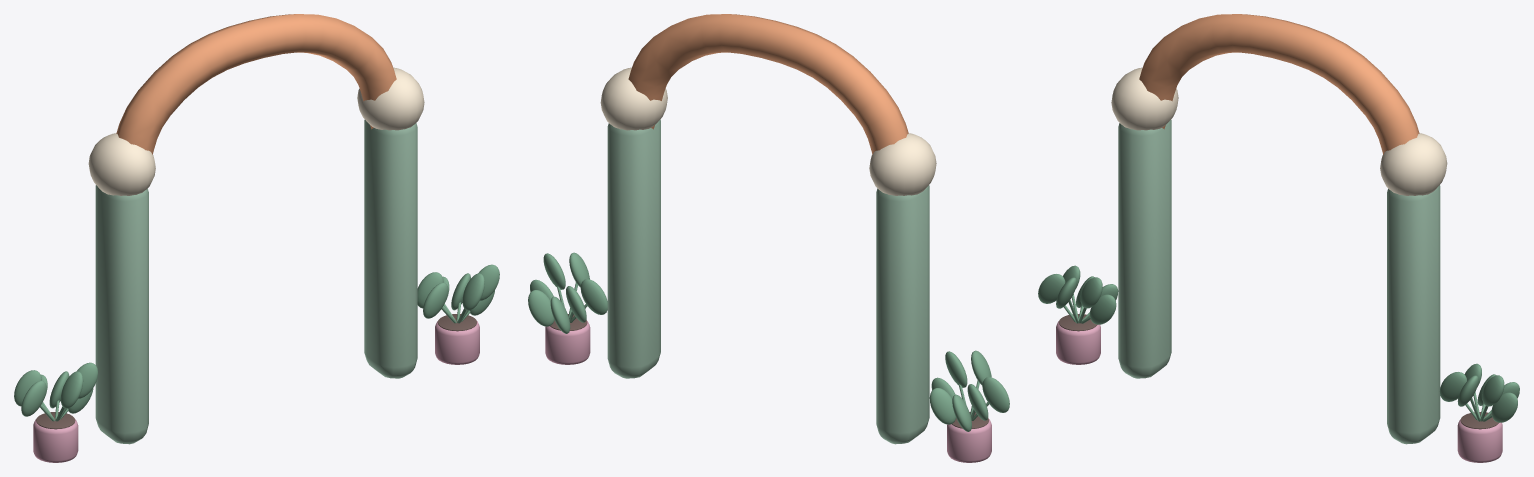
File: campus-gate.glb
The picture shows the model from 3 angles, left to right: view 1: azimuth 30°, elevation 25°; view 2: azimuth 150°, elevation 25°; view 3: azimuth 330°, elevation 25°; orthographic projection.
Parts seen in each view (by area): view 1: AssetSurface; view 2: AssetSurface; view 3: AssetSurface.
Part boxes in pixels (<box>): AssetSurface: <box>14,14,499,462</box>; AssetSurface: <box>528,14,1009,462</box>; AssetSurface: <box>1038,14,1519,462</box>.
Size of the model in its own units: 3.72 by 2.88 by 0.5329.
